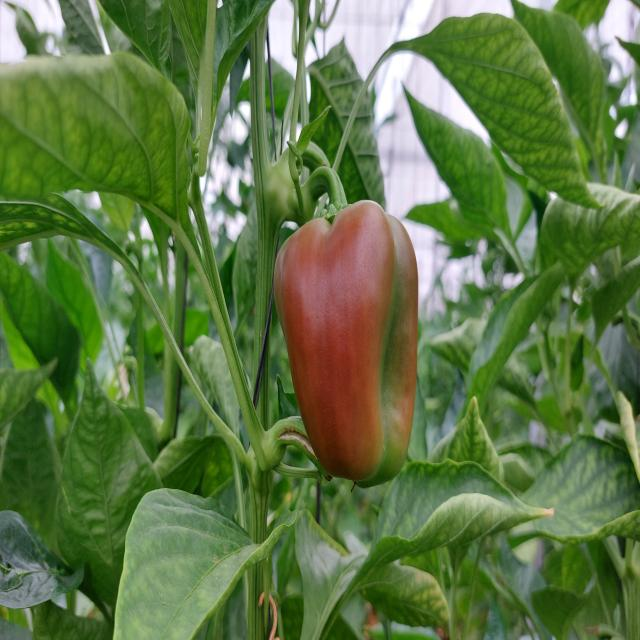BrownishRed--Can-be-Harvested: (270, 206, 447, 502)
